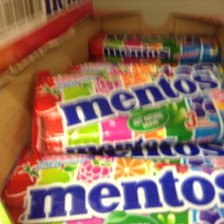candy: (6, 150, 220, 222), (39, 67, 222, 151), (90, 29, 224, 61)
